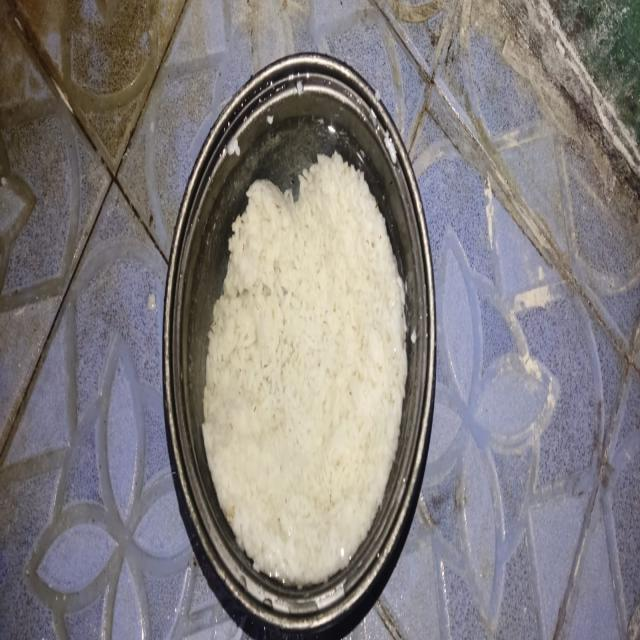organik: (207, 160, 401, 574)
